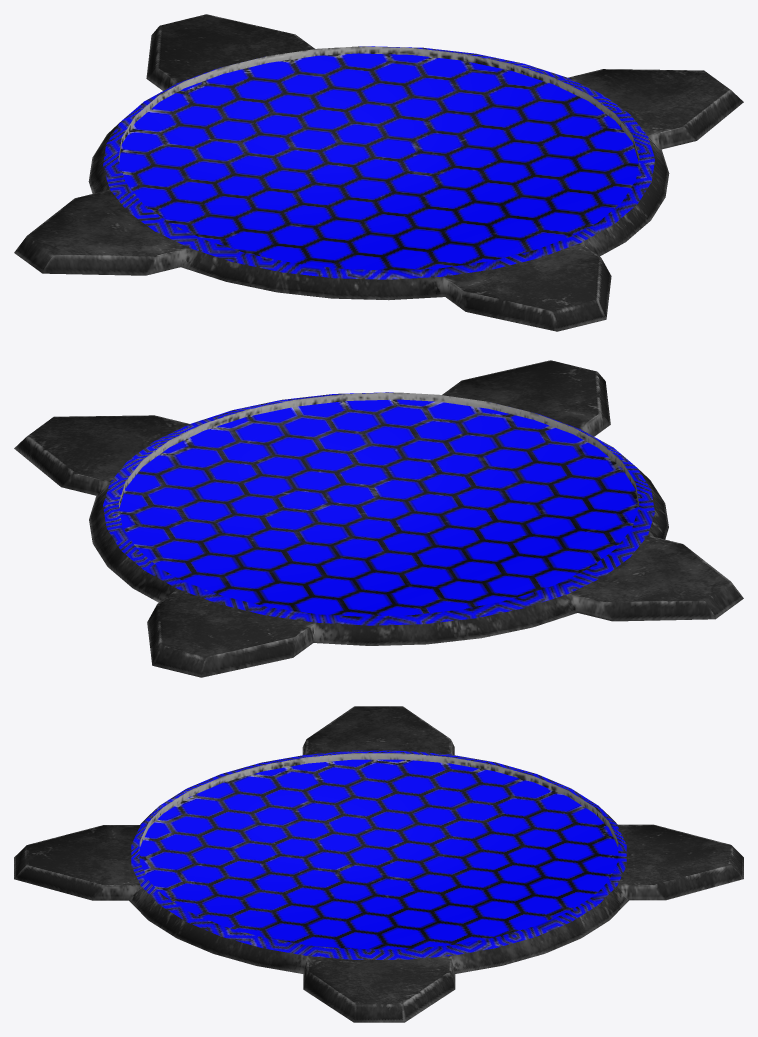
The model's file is teleporter.glb.
The picture shows the model from 3 angles, top to bottom: view 1: azimuth 30°, elevation 25°; view 2: azimuth 150°, elevation 25°; view 3: azimuth 270°, elevation 25°; orthographic projection. The views are drawn at different scales.
Parts seen in each view (by area): view 1: Teleporter_low (×2); view 2: Teleporter_low (×2); view 3: Teleporter_low (×2).
Part boxes in pixels (x1,y1,x2,y2): Teleporter_low (×2): (14, 14, 743, 331); Teleporter_low (×2): (14, 360, 743, 677); Teleporter_low (×2): (14, 706, 743, 1022).
Bounding box in the file's own units: 1.85 × 0.0477 × 1.85.
2 materials, 2 textured.
